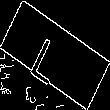L_NE: (34, 25, 76, 85)
